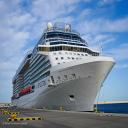cruises: (11, 20, 117, 115)
